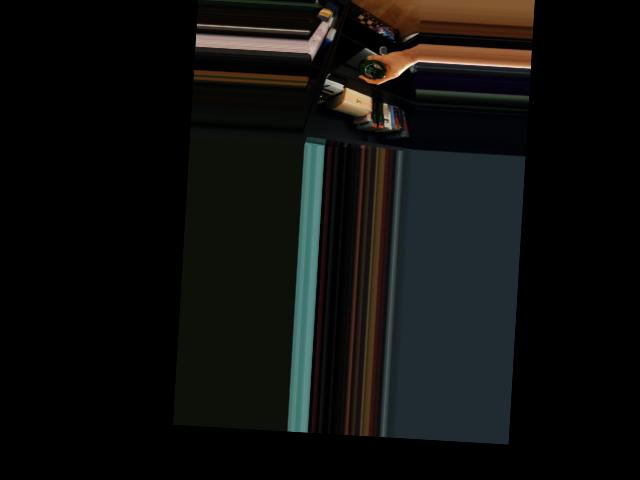beer: (357, 57, 386, 78)
